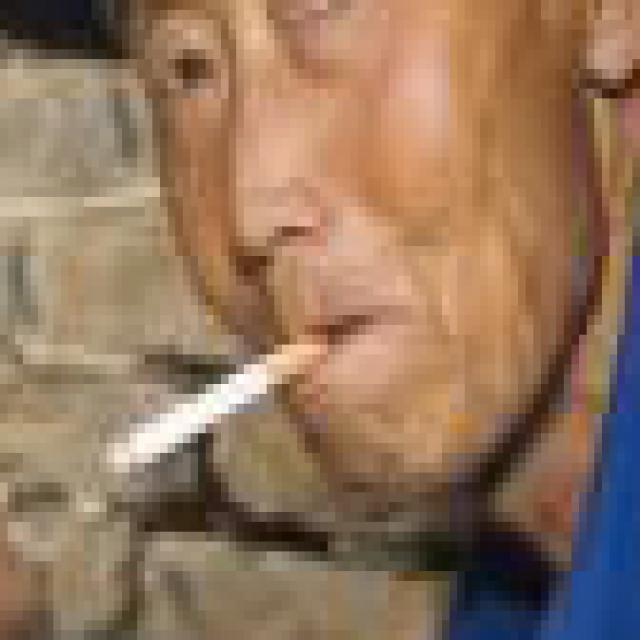smoking: (118, 326, 328, 479)
